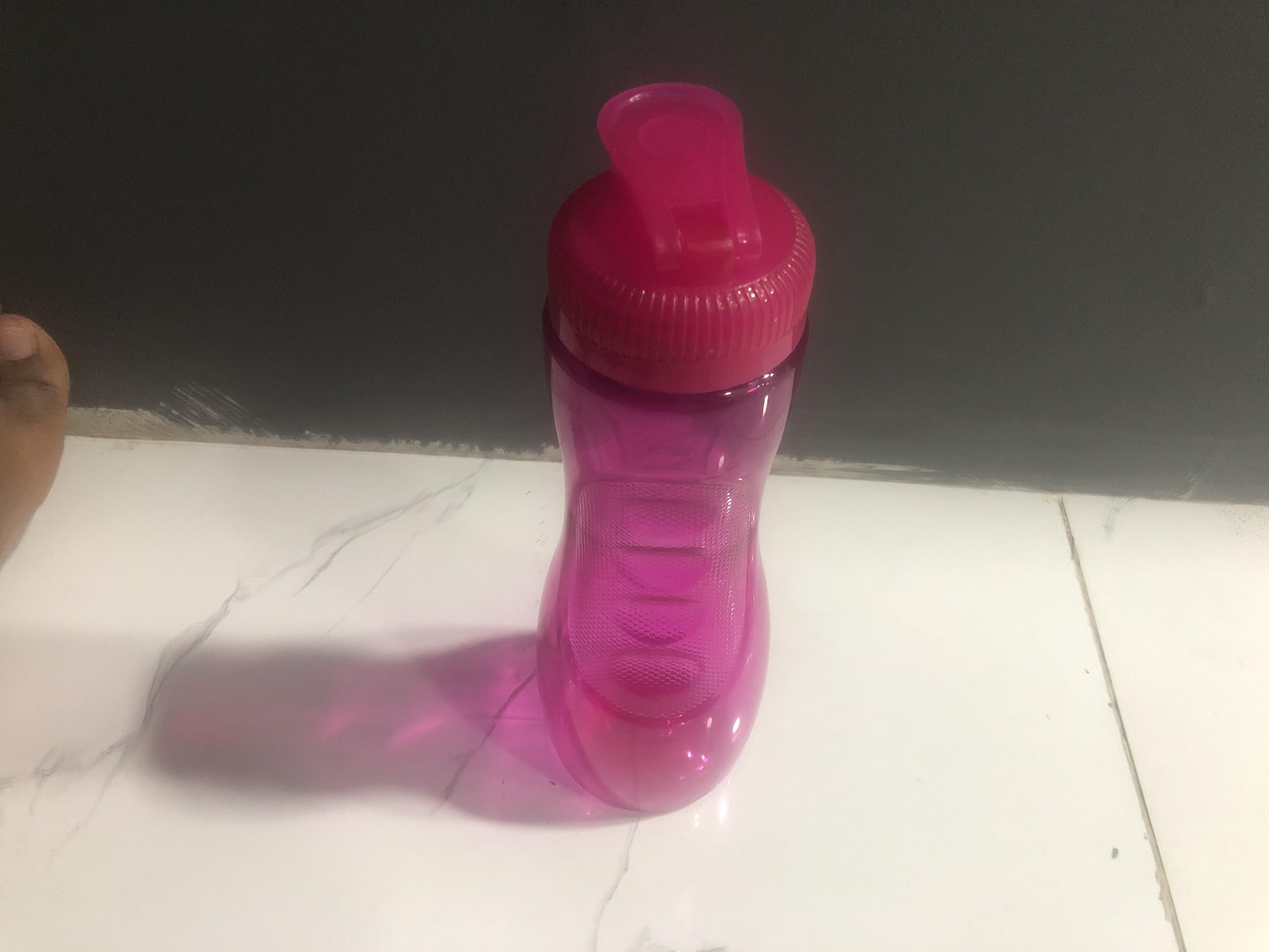gym bottle: (539, 78, 819, 815)
